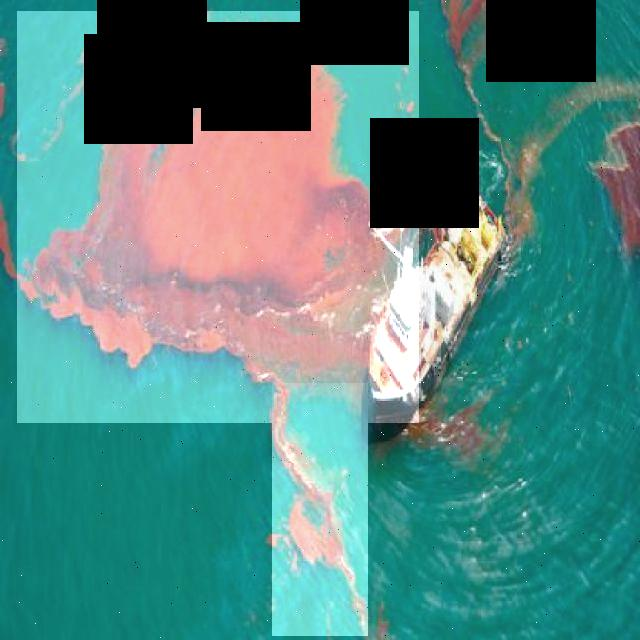oil spill: (18, 11, 419, 423), (272, 383, 368, 636), (596, 123, 639, 251)
